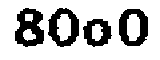0: (115, 5, 153, 51), (49, 4, 80, 51)
8: (15, 5, 47, 52)
o: (81, 16, 113, 49)
